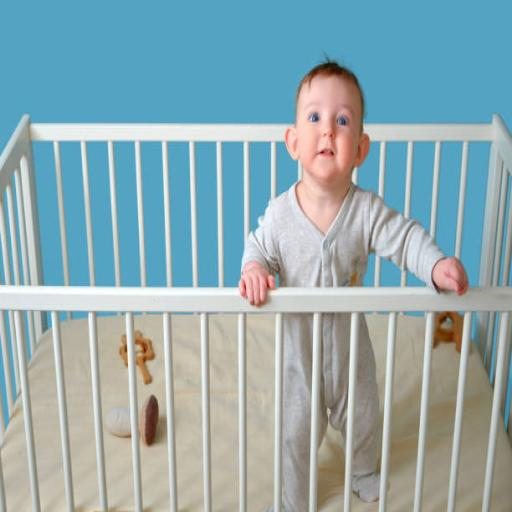baby: (239, 62, 468, 304)
crib: (0, 116, 511, 510)
